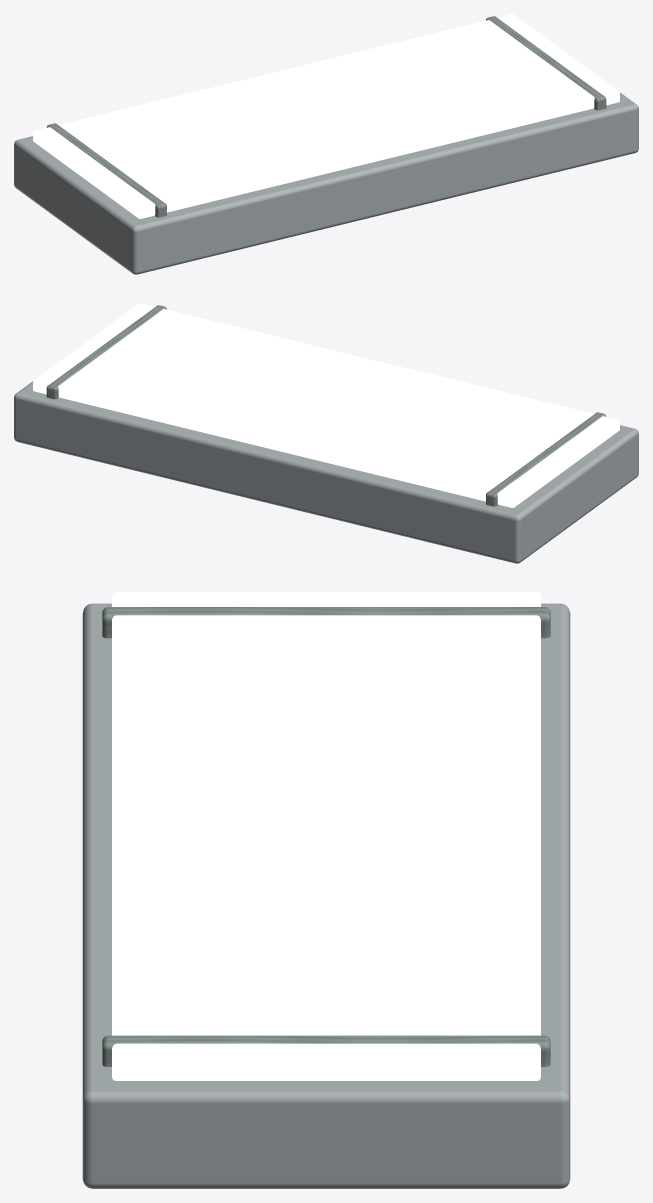
The picture shows the model from 3 angles, top to bottom: view 1: azimuth 30°, elevation 25°; view 2: azimuth 150°, elevation 25°; view 3: azimuth 270°, elevation 25°; orthographic projection. The views are drawn at different scales.
Visible parts, largest first — view 1: fluorescent-troffer; view 2: fluorescent-troffer; view 3: fluorescent-troffer.
Boxes of the visible parts, <box> form: fluorescent-troffer: <box>14,14,638,274</box>; fluorescent-troffer: <box>14,303,638,563</box>; fluorescent-troffer: <box>82,592,570,1188</box>.
Bounding box in the file's own units: 1.2 × 0.1362 × 0.5.
3 materials, 1 textured.
